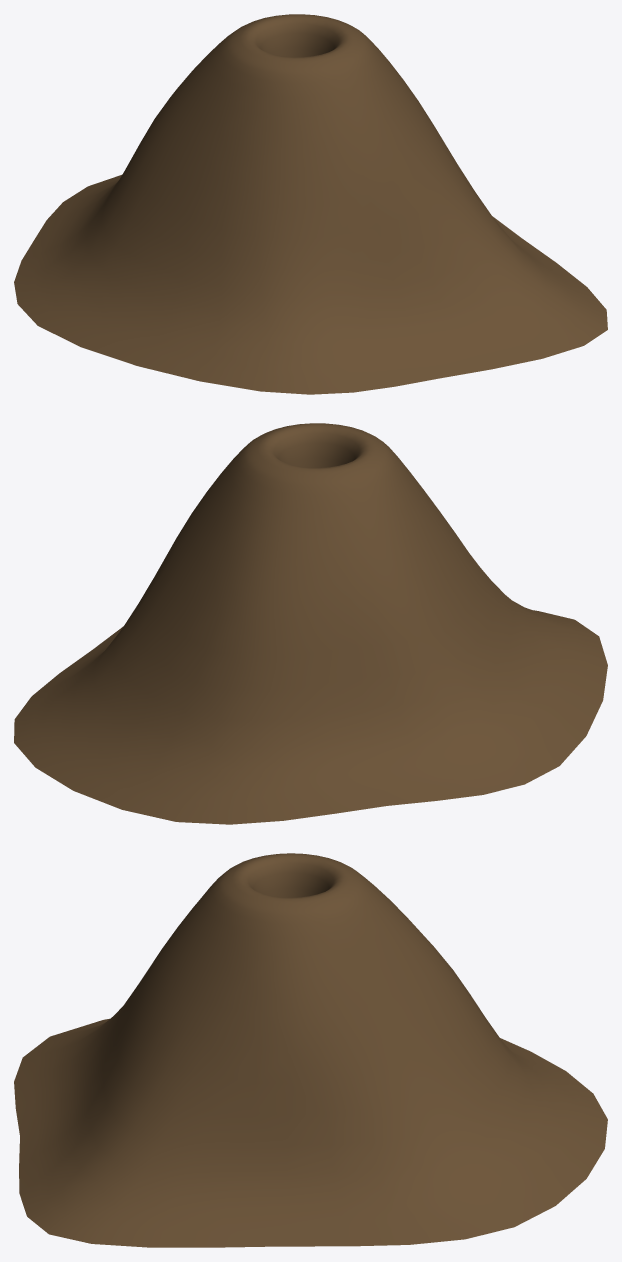
File: AntHill.fbx
3 views of the same model, one above another, from view 1: azimuth 30°, elevation 25°; view 2: azimuth 150°, elevation 25°; view 3: azimuth 270°, elevation 25° (orthographic). The views are drawn at different scales.
Visible parts, largest first — view 1: Circle; view 2: Circle; view 3: Circle.
Part boxes in pixels (x1,y1,x2,y2): Circle: [14, 14, 607, 394]; Circle: [14, 423, 607, 824]; Circle: [14, 853, 607, 1247].
Bounding box in the file's own units: 294 × 152 × 314.
